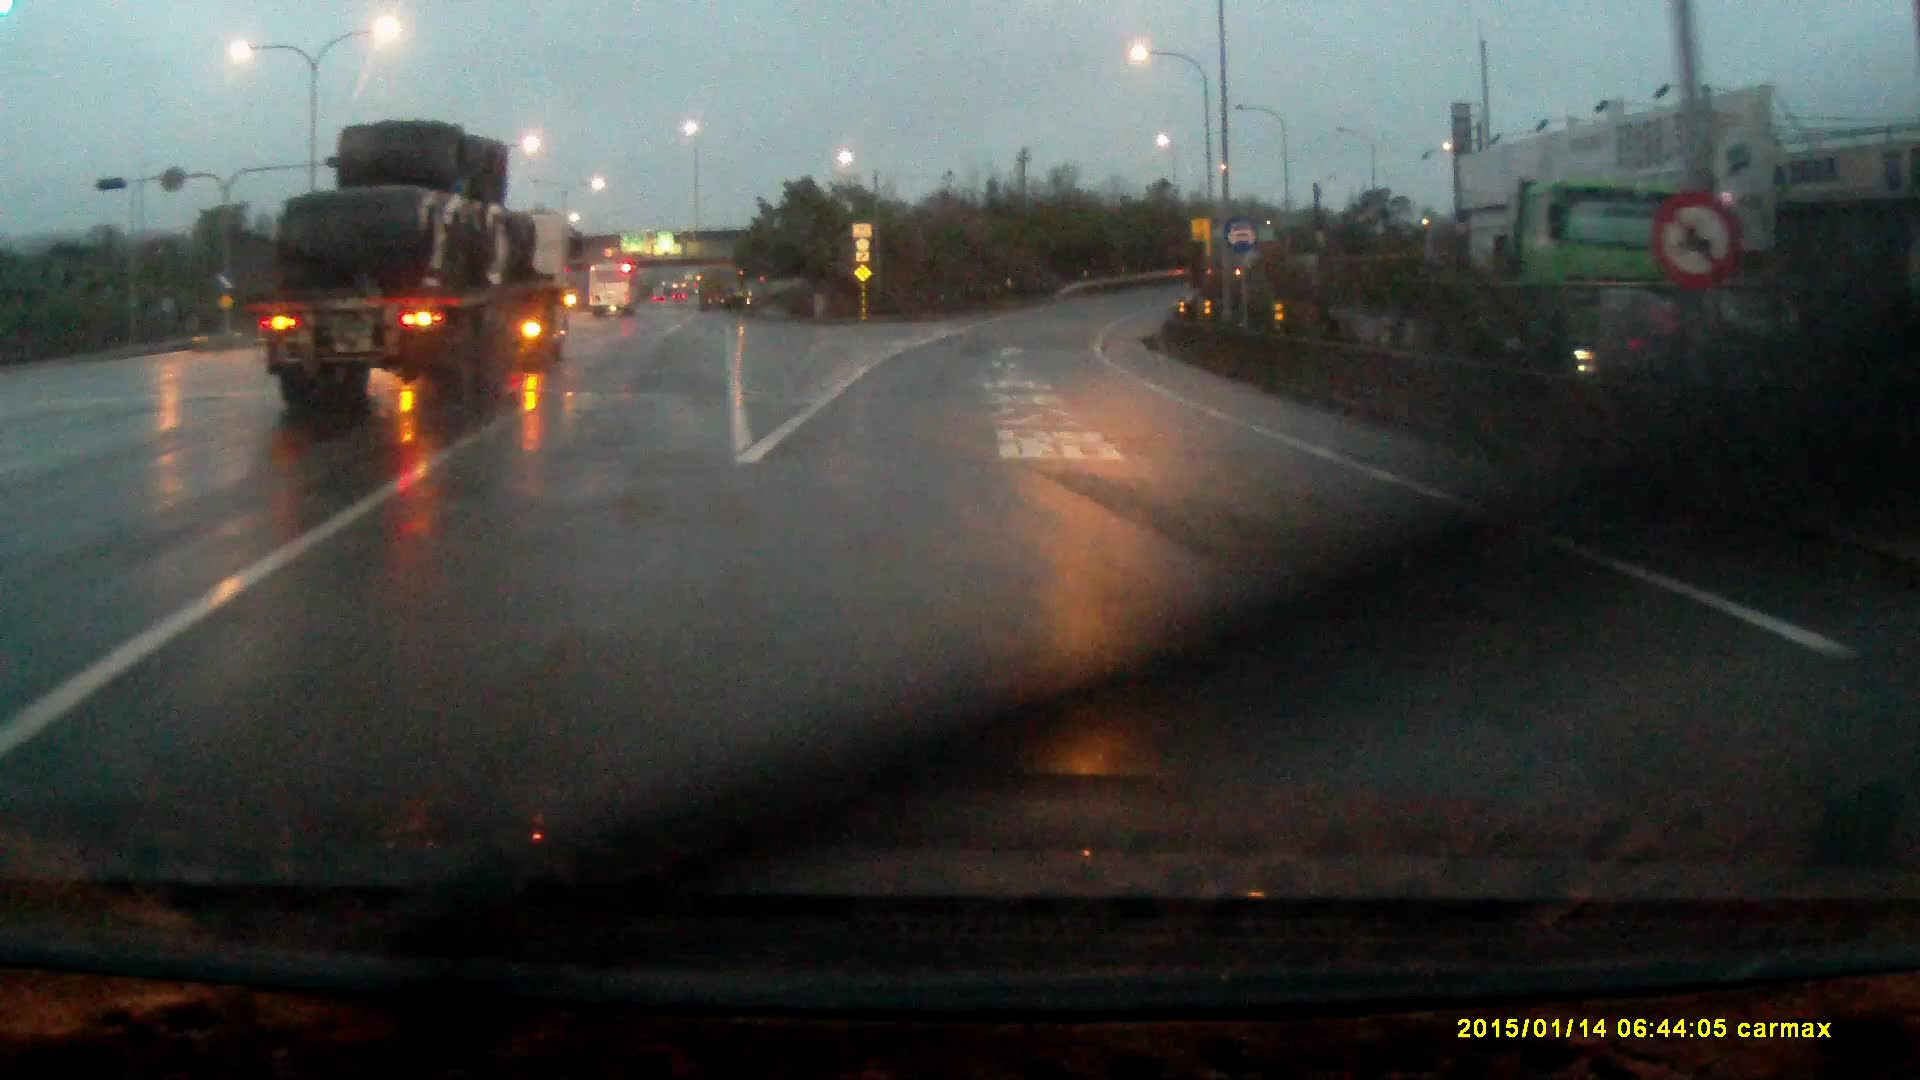vehicle: (260, 123, 579, 415), (589, 265, 644, 319)
